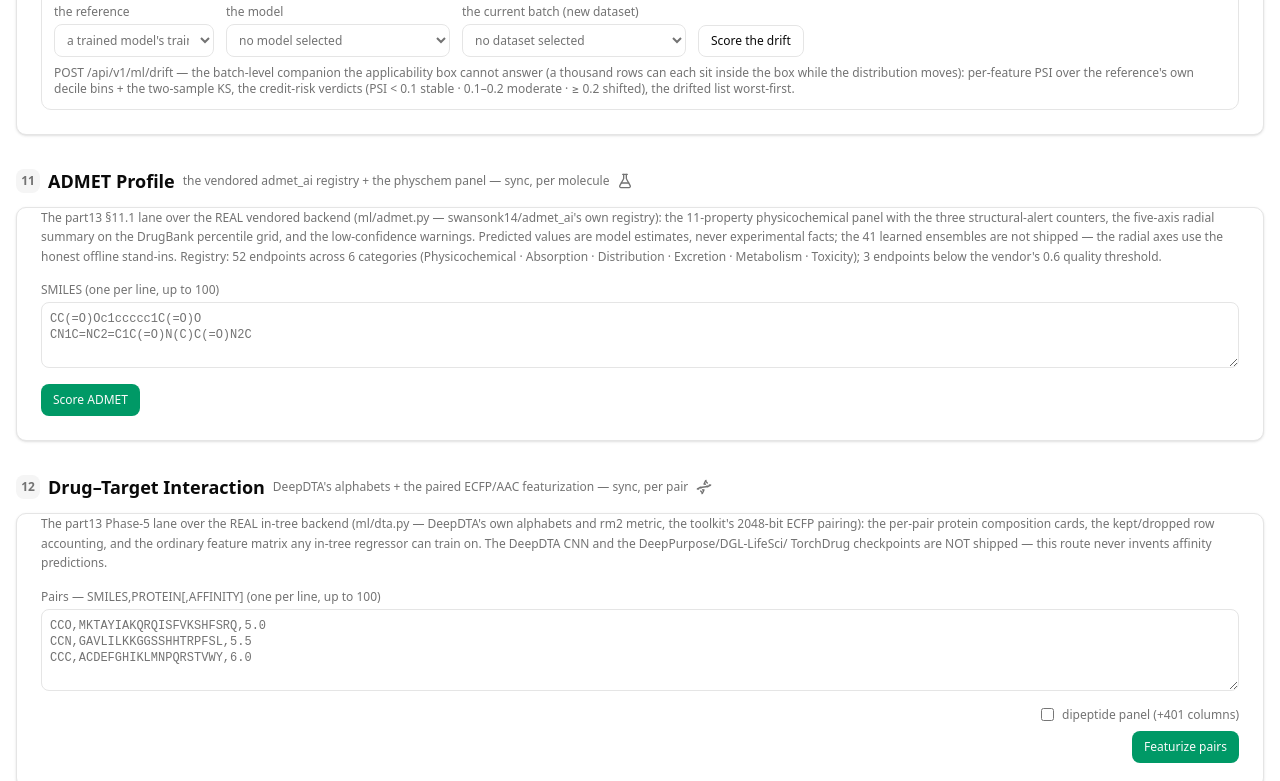
Test case: the ADMET lane of the Machine Learning workspace › surfaces the backend's own 422 verbatim through the banner
(page scrolled)
Click the button "Score ADMET" at (90, 400), box [41,384,140,416]
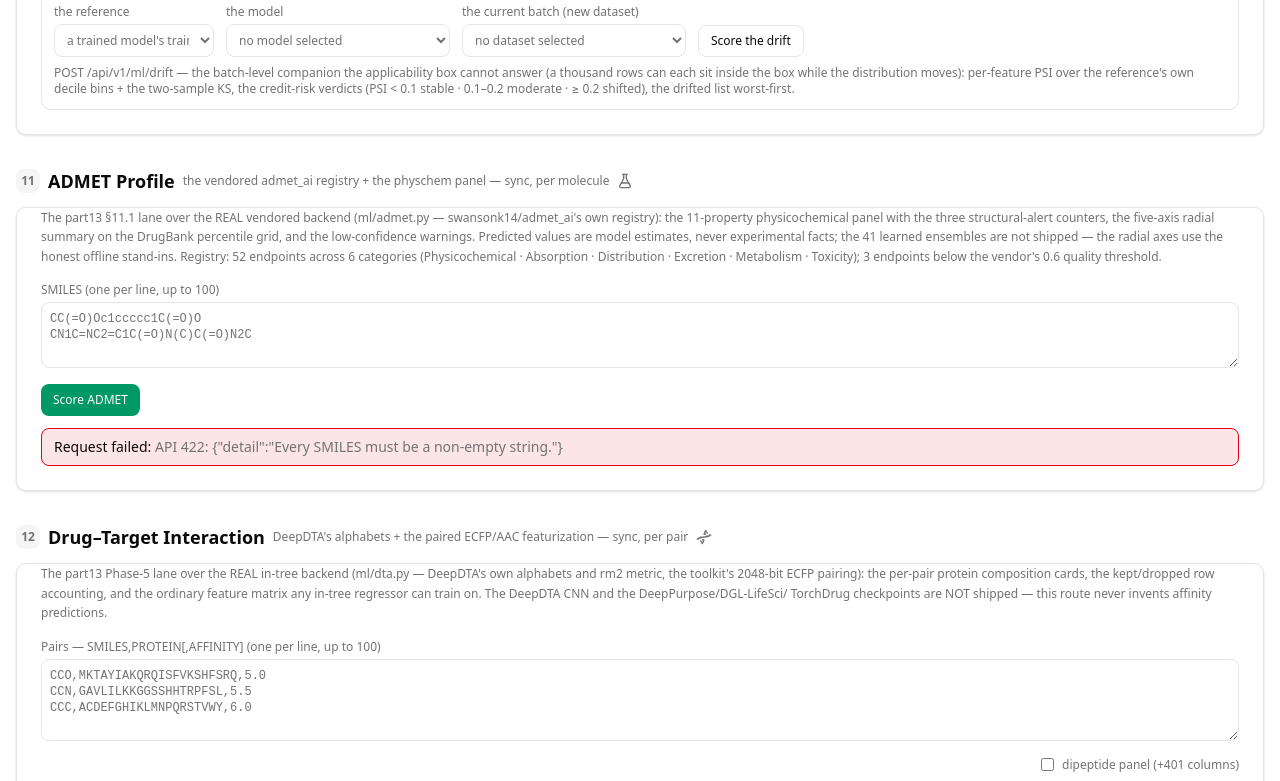
Result: the text "API 422" is shown at [155,437,563,456]
